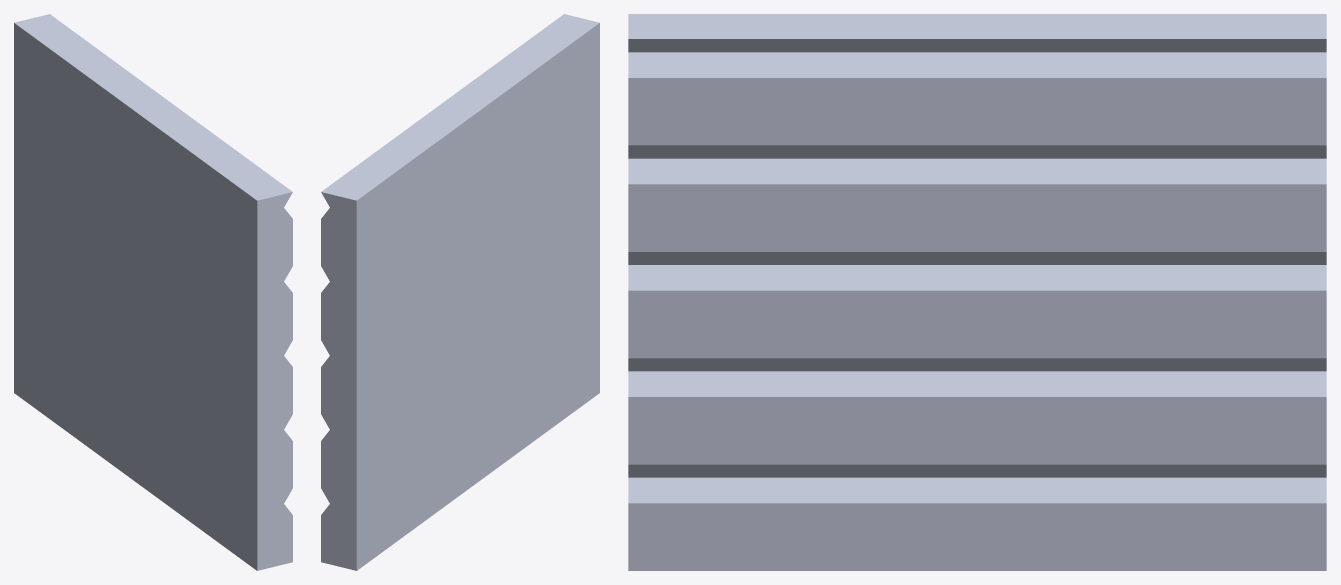
The model's file is spaceInterior_071.obj.
The picture shows the model from 3 angles, left to right: view 1: azimuth 30°, elevation 25°; view 2: azimuth 150°, elevation 25°; view 3: azimuth 270°, elevation 25°; orthographic projection. The views are drawn at different scales.
Visible parts, largest first — view 1: Mesh1 Group1 Model; view 2: Mesh1 Group1 Model; view 3: Mesh1 Group1 Model.
Boxes of the visible parts, <box> form: Mesh1 Group1 Model: <box>14,14,292,570</box>; Mesh1 Group1 Model: <box>321,14,599,570</box>; Mesh1 Group1 Model: <box>628,14,1326,570</box>.
Size of the model in its own units: 0.0625 by 0.6176 by 0.7352.
